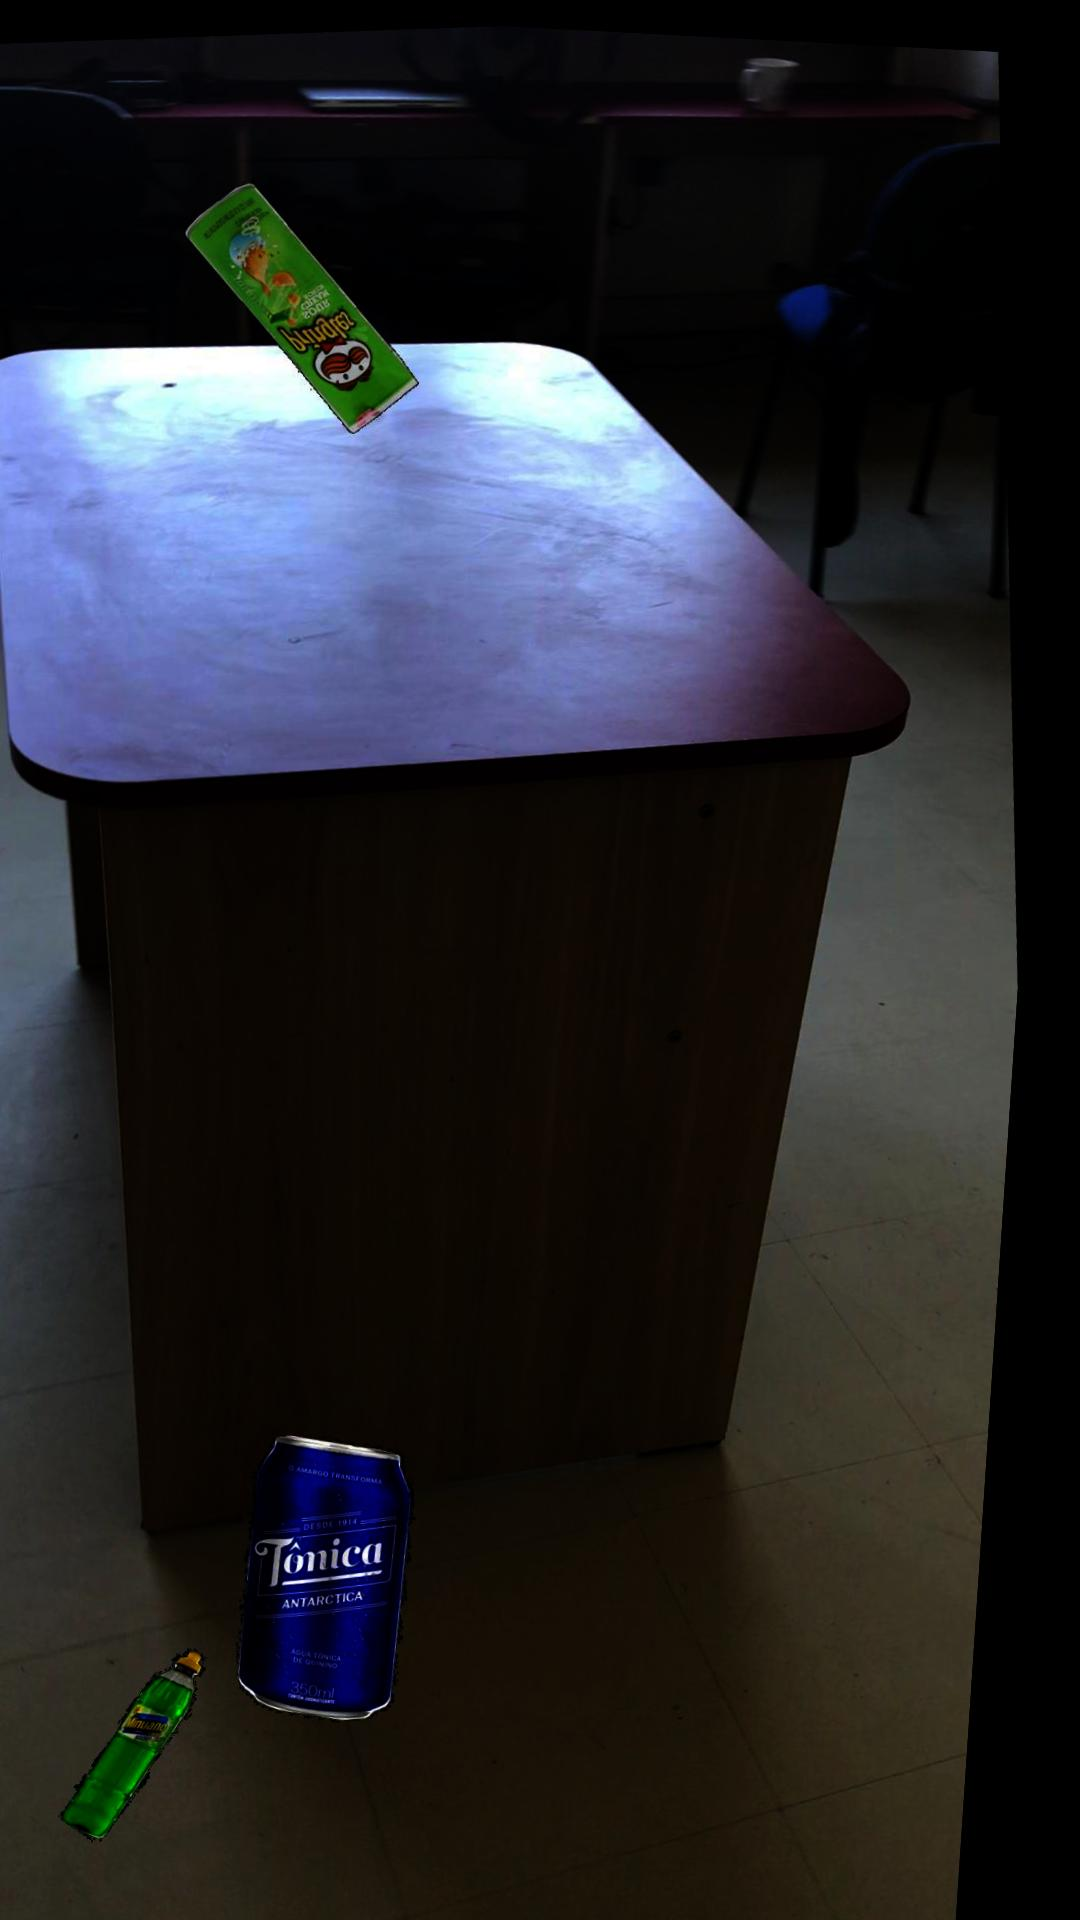cleaner: (87, 1643, 231, 1834)
pringles: (189, 178, 425, 427)
tonic: (261, 1429, 438, 1714)
